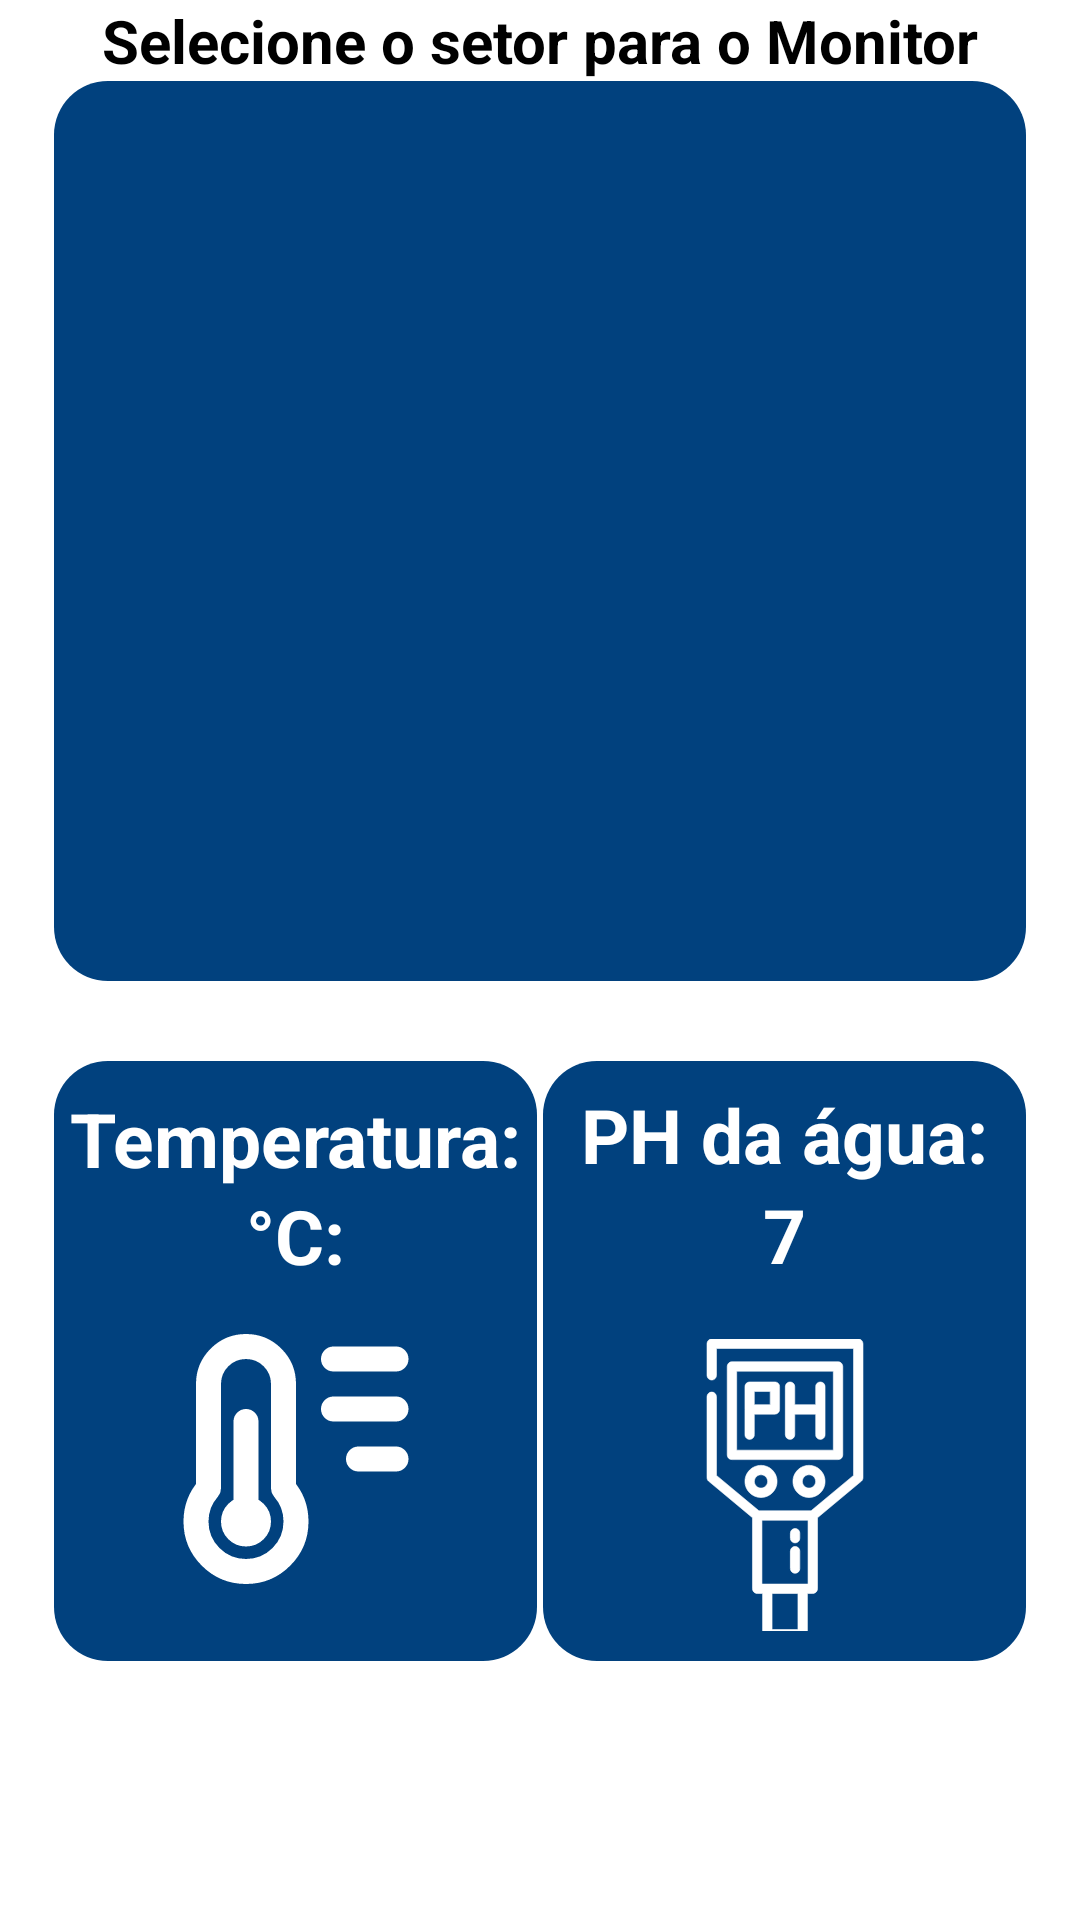

Screen size 1080×1920. Icon name, then its box in pixels as [x1, y1, x2, y2]:
temperature list: [183, 1334, 409, 1584]
